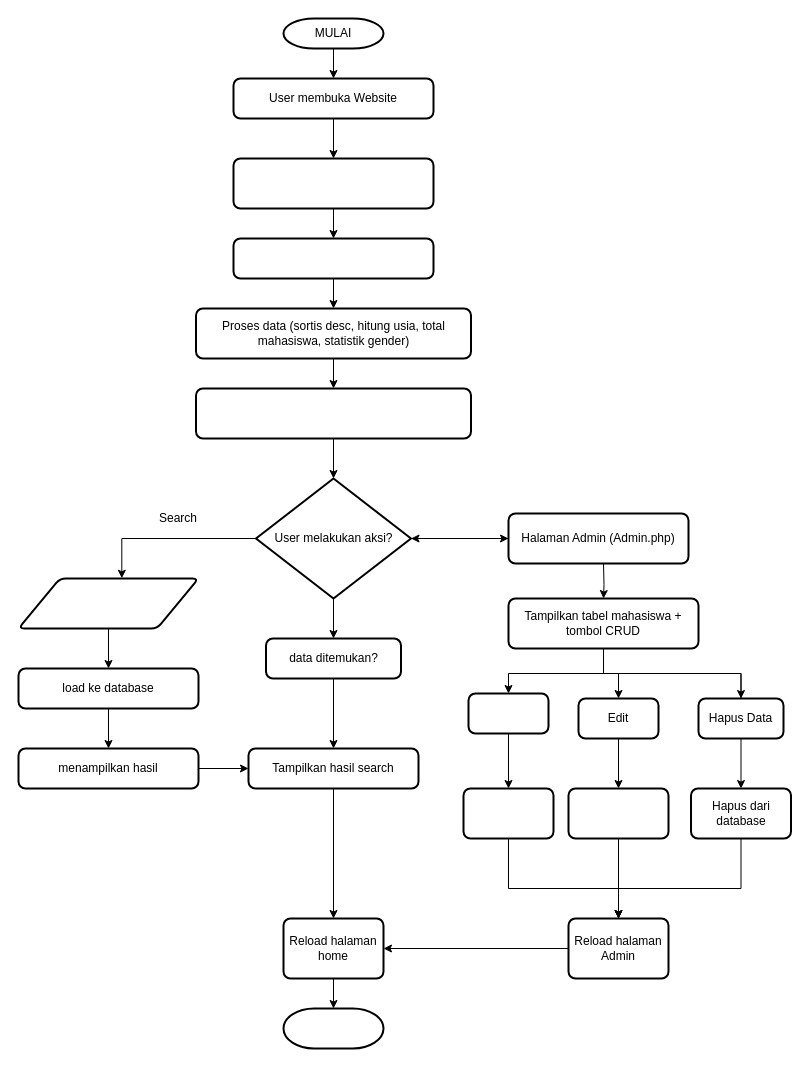
Some shapes in this 809 by 1066 pixel diagram are drawn without their labels. Each missing label, with the centre of its shape:
"Ambil data dari database (koneksi.php)" belongs at (333,183).
"Halaman Home (Index.php)" belongs at (333,258).
"Input Pencarian" belongs at (108,603).
"Selesai" belongs at (333,1028).
"Simpan ke database" belongs at (508,813).
"Tambah data" belongs at (508,713).
"Tampilkan data (tabel mahasiswa, total mahasiswa. statistik, diagram pie)" belongs at (333,413).
"update database" belongs at (618,813).
